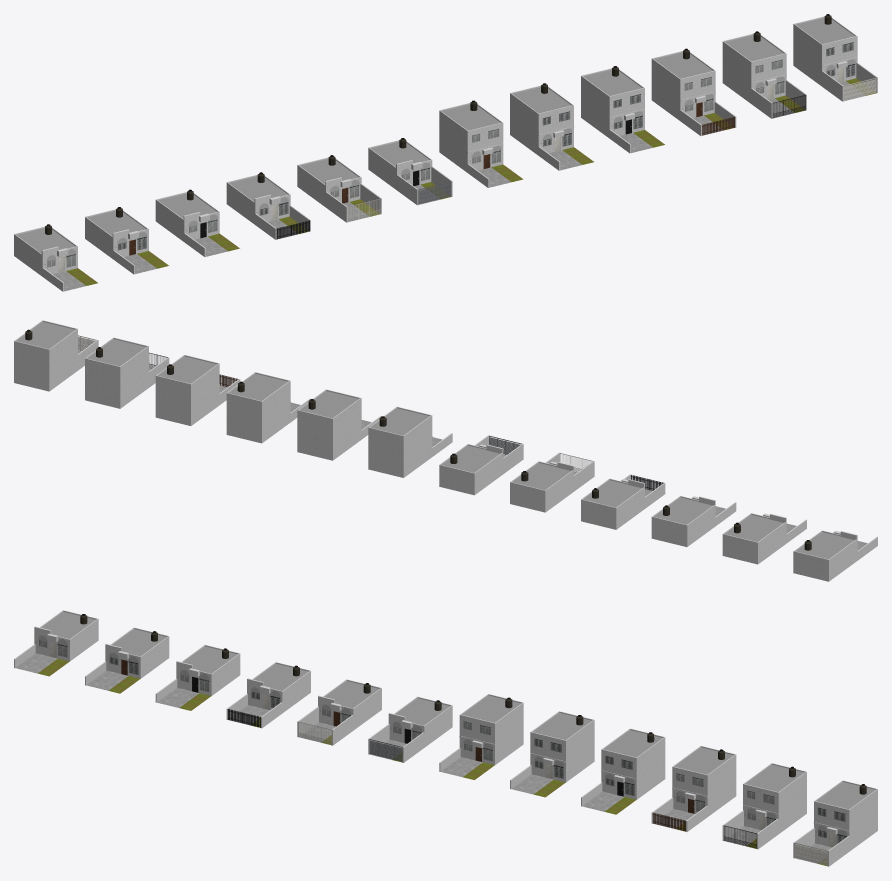
Rendered from casas_psm.glb.
The picture shows the model from 3 angles, top to bottom: view 1: azimuth 30°, elevation 25°; view 2: azimuth 150°, elevation 25°; view 3: azimuth 330°, elevation 25°; orthographic projection.
Parts seen in each view (by area): view 1: psm_2p_persiana, psm_2p_barrotes, psm_2p_tablones, psm_2p_a, psm_2p_b, psm_2p_c, psm_1p_barrotes, psm_1p_persiana, psm_1p_tablones, psm_1p_c, psm_1p_b, psm_1p_a; view 2: psm_2p_persiana, psm_2p_barrotes, psm_2p_tablones, psm_2p_a, psm_2p_c, psm_2p_b, psm_1p_persiana, psm_1p_barrotes, psm_1p_tablones, psm_1p_c, psm_1p_b, psm_1p_a; view 3: psm_2p_persiana, psm_2p_barrotes, psm_2p_tablones, psm_2p_c, psm_2p_b, psm_2p_a, psm_1p_persiana, psm_1p_barrotes, psm_1p_tablones, psm_1p_c, psm_1p_a, psm_1p_b.
Part boxes in pixels (box(x1,y1,x2,y2)): psm_2p_persiana: box(793, 14, 877, 101); psm_2p_barrotes: box(722, 31, 806, 118); psm_2p_tablones: box(651, 48, 736, 135); psm_2p_a: box(439, 100, 523, 187); psm_2p_b: box(510, 83, 593, 170); psm_2p_c: box(581, 66, 664, 153); psm_1p_barrotes: box(297, 155, 381, 222); psm_1p_persiana: box(368, 138, 452, 205); psm_1p_tablones: box(226, 172, 310, 239); psm_1p_c: box(155, 189, 239, 257); psm_1p_b: box(85, 207, 168, 274); psm_1p_a: box(14, 224, 97, 291); psm_2p_persiana: box(14, 320, 98, 391); psm_2p_barrotes: box(85, 337, 169, 408); psm_2p_tablones: box(155, 355, 240, 425); psm_2p_a: box(368, 406, 452, 477); psm_2p_c: box(226, 372, 310, 443); psm_2p_b: box(297, 389, 381, 460); psm_1p_persiana: box(439, 435, 523, 495); psm_1p_barrotes: box(510, 452, 594, 512); psm_1p_tablones: box(581, 474, 665, 529); psm_1p_c: box(651, 496, 736, 546); psm_1p_b: box(722, 513, 806, 564); psm_1p_a: box(793, 530, 877, 581); psm_2p_persiana: box(793, 780, 877, 866); psm_2p_barrotes: box(722, 763, 806, 849); psm_2p_tablones: box(651, 746, 736, 831); psm_2p_c: box(581, 728, 665, 814); psm_2p_b: box(510, 711, 594, 797); psm_2p_a: box(439, 694, 523, 779); psm_1p_persiana: box(368, 696, 452, 762); psm_1p_barrotes: box(297, 679, 381, 745); psm_1p_tablones: box(226, 662, 310, 728); psm_1p_c: box(155, 645, 240, 710); psm_1p_a: box(14, 610, 98, 676); psm_1p_b: box(85, 627, 169, 693).
Size of the model in its own units: 115 by 6.65 by 12.
Materials: 7 (7 with a texture image).
